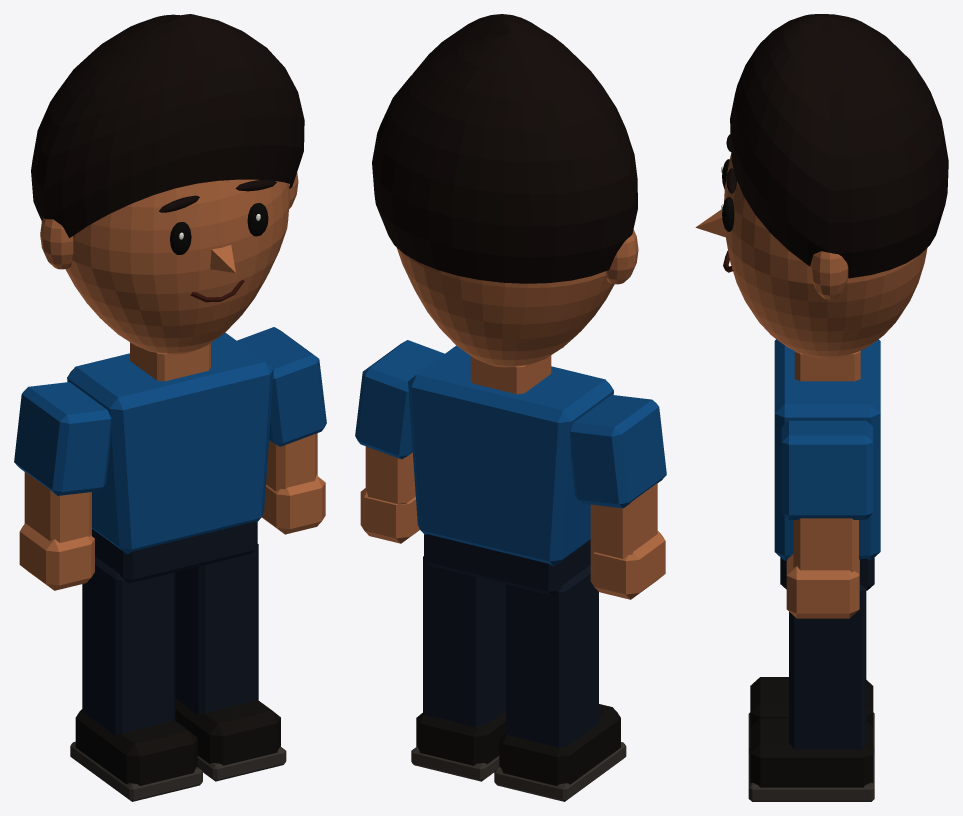
Rendered from avatar-mii-kenney-cabelo-volumoso-01.obj.
The picture shows the model from 3 angles, left to right: view 1: azimuth 30°, elevation 25°; view 2: azimuth 150°, elevation 25°; view 3: azimuth 270°, elevation 25°; orthographic projection.
Visible parts, largest first — view 1: Cabelo_volumoso_01, Corpo_01, Cabeca_01, Perna_L, Perna_R, Manga, Sapato_L, Manga.001, Quadril, Sapato_R, Mao, Antebraco (+8 smaller); view 2: Cabelo_volumoso_01, Corpo_01, Perna_L, Cabeca_01, Perna_R, Manga, Manga.001, Quadril, Sapato_L, Sapato_R, Antebraco, Mao (+6 smaller); view 3: Cabelo_volumoso_01, Cabeca_01, Perna_R, Manga.001, Corpo_01, Sapato_R, Mao.001, Antebraco.001, Sola.001, Sapato_L, Pescoco, Orelha_R (+1 smaller).
Part boxes in pixels (x1,y1,x2,y2): Cabelo_volumoso_01: (31, 14, 304, 238); Corpo_01: (67, 332, 273, 554); Cabeca_01: (65, 179, 289, 354); Perna_L: (82, 556, 175, 735); Perna_R: (175, 544, 258, 715); Manga: (14, 382, 111, 495); Sapato_L: (75, 709, 197, 785); Manga.001: (237, 327, 326, 446); Quadril: (92, 521, 257, 583); Sapato_R: (175, 698, 280, 765); Mao: (19, 524, 94, 590); Antebraco: (24, 471, 91, 542); Cabelo_volumoso_01: (372, 14, 637, 283); Corpo_01: (408, 345, 613, 566); Perna_L: (506, 565, 598, 747); Cabeca_01: (396, 247, 614, 367); Perna_R: (423, 556, 505, 727); Manga: (569, 395, 666, 508); Manga.001: (355, 340, 444, 459); Quadril: (424, 534, 590, 595); Sapato_L: (499, 704, 620, 785); Sapato_R: (416, 710, 505, 765); Antebraco: (590, 483, 657, 558); Mao: (590, 531, 665, 599); Cabelo_volumoso_01: (730, 14, 948, 278); Cabeca_01: (724, 154, 927, 358); Perna_R: (789, 584, 866, 749); Manga.001: (781, 420, 873, 519); Corpo_01: (774, 339, 880, 560); Sapato_R: (750, 718, 873, 787); Mao.001: (786, 554, 859, 618); Antebraco.001: (793, 518, 858, 572); Sola.001: (748, 754, 874, 801); Sapato_L: (750, 677, 873, 726); Pescoco: (794, 351, 860, 381); Orelha_R: (810, 251, 848, 299).
Size of the model in its own units: 1.14 by 2.9 by 0.8852.
